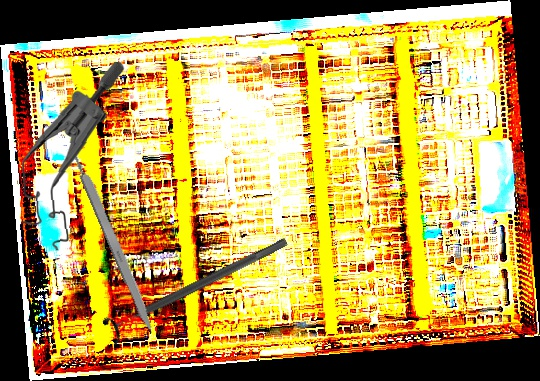Fixation Ring: (100, 227, 294, 347)
Scalpel Handle: (69, 147, 159, 336)
Speculum: (12, 62, 134, 252)
